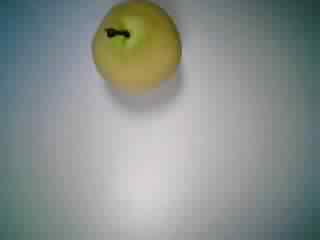pear: (83, 1, 192, 102)
